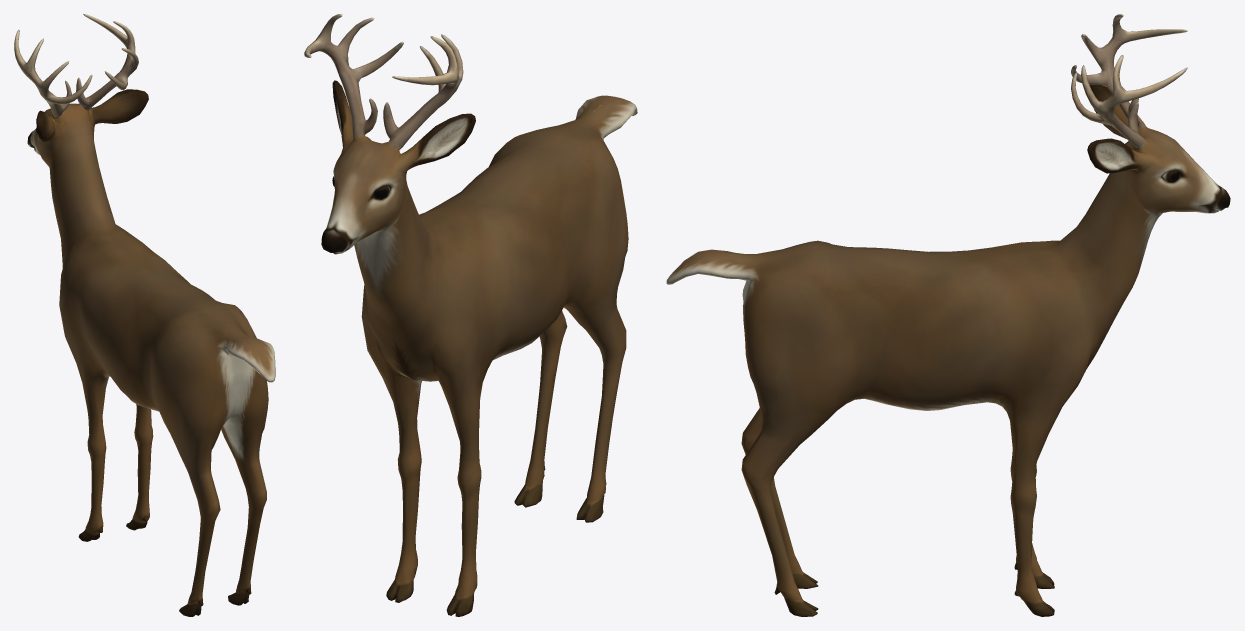
The model's file is venado.fbx.
3 views of the same model, side by side, from view 1: azimuth 30°, elevation 25°; view 2: azimuth 150°, elevation 25°; view 3: azimuth 270°, elevation 25° (orthographic). The views are drawn at different scales.
Parts seen in each view (by area): view 1: Venado_LOD0; view 2: Venado_LOD0; view 3: Venado_LOD0.
Part boxes in pixels (left/top/right/bottom): Venado_LOD0: left=14, top=14, right=275, bottom=616; Venado_LOD0: left=304, top=14, right=637, bottom=616; Venado_LOD0: left=666, top=14, right=1230, bottom=616.
Size of what is drawn, in the model's own units: 0.4853 by 1.8 by 1.99.
